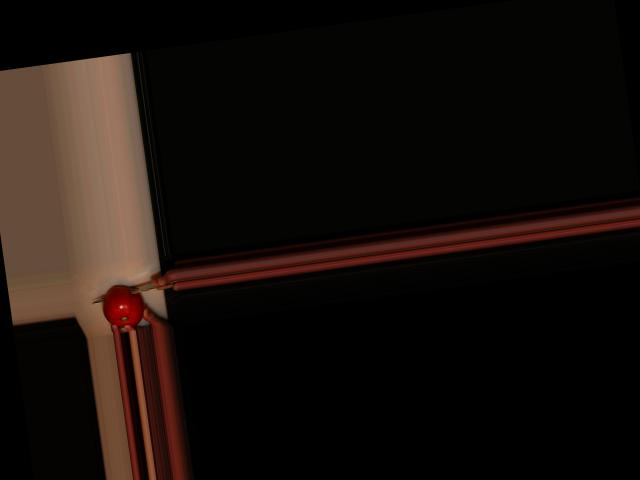tomato: (99, 283, 146, 330)
